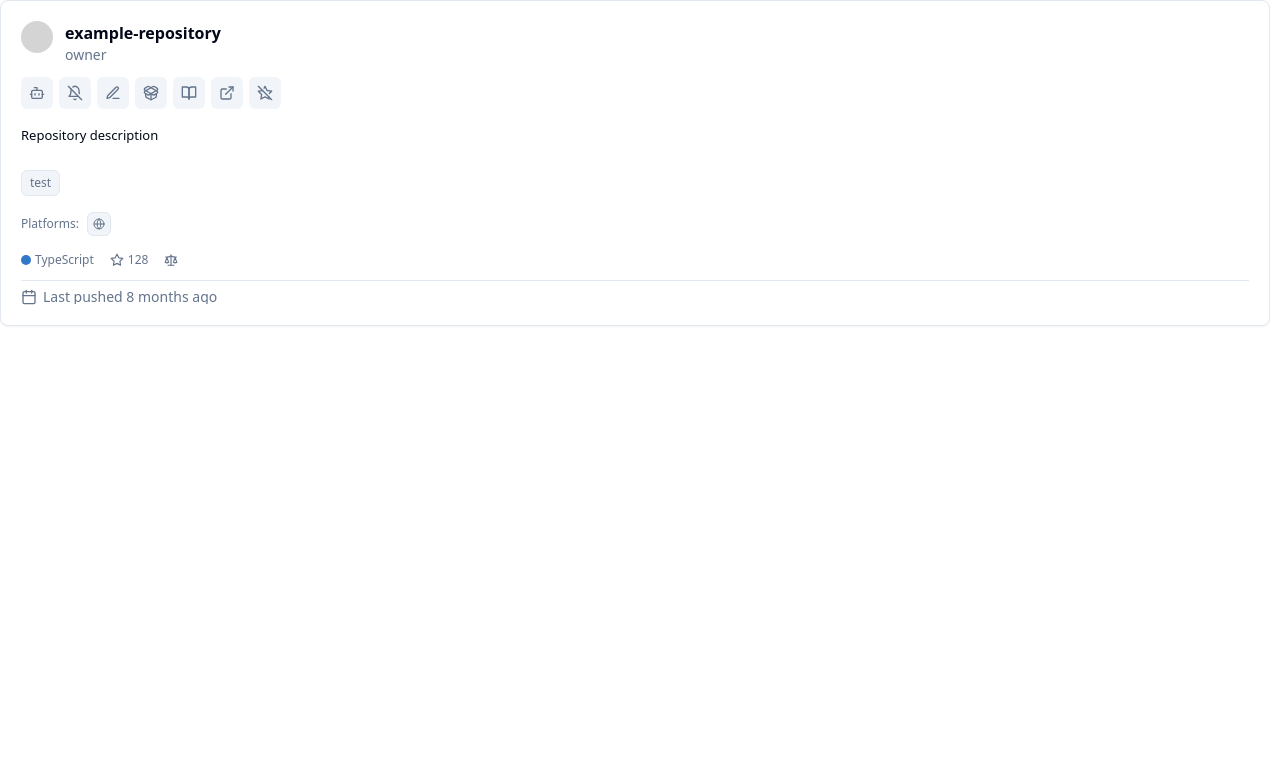
Test: RepositoryCard README lazy boundary › renders the existing error boundary when the README lazy chunk cannot load
Click the button with aria-label "owner/example-repository". click: (635, 163)
box: left=0, top=0, right=1270, bottom=326
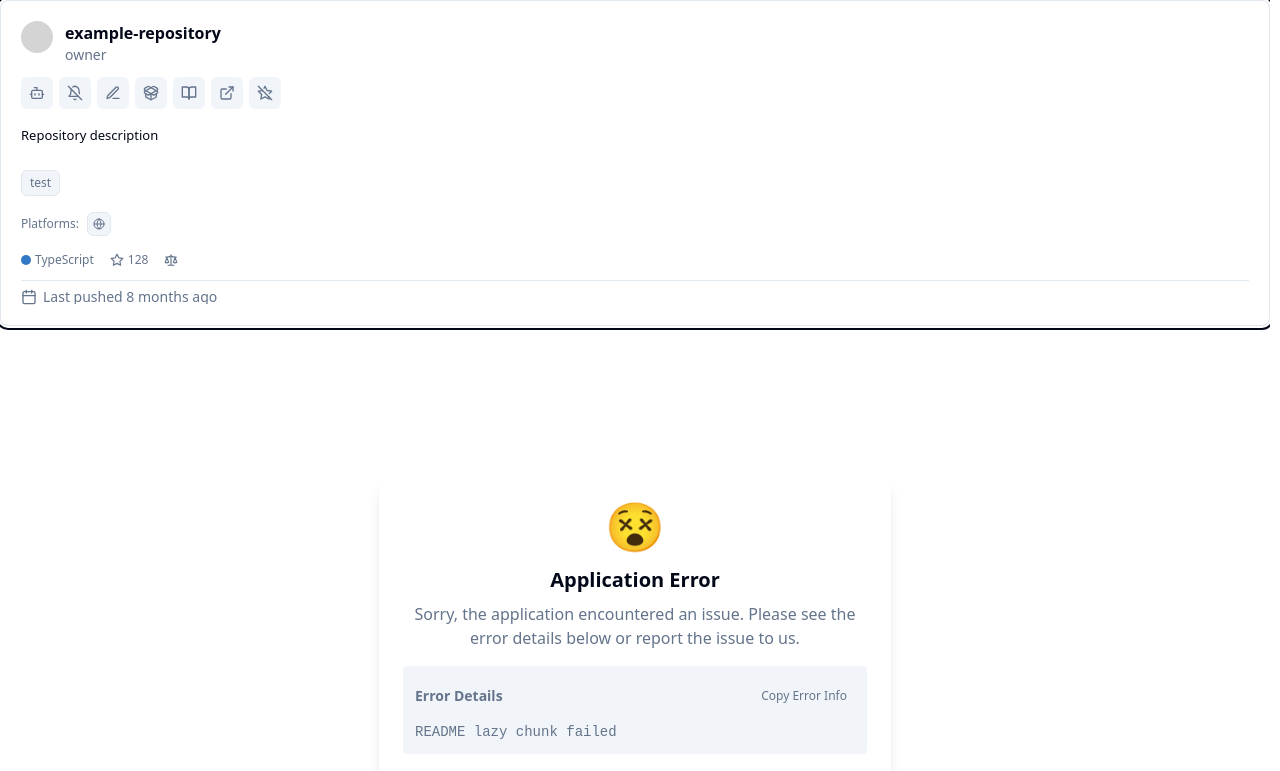
Expected: the heading "Application Error" is shown, left=550, top=566, right=720, bottom=593
